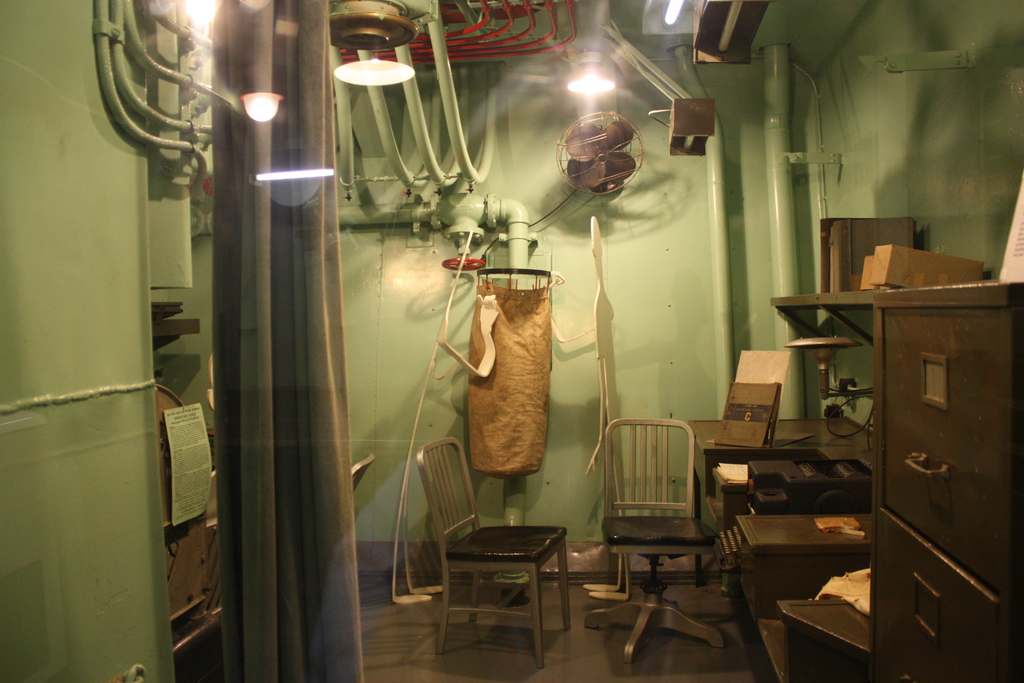cabinet door: (886, 319, 1009, 546), (877, 545, 1001, 683)
handle: (907, 452, 946, 486)
